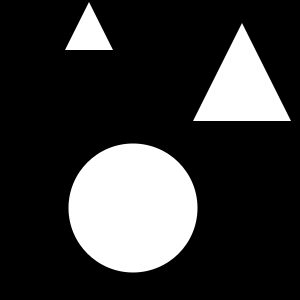rectangle: (69, 144, 198, 272)
triangle: (193, 23, 291, 121), (65, 2, 113, 50), (247, 72, 273, 98)
